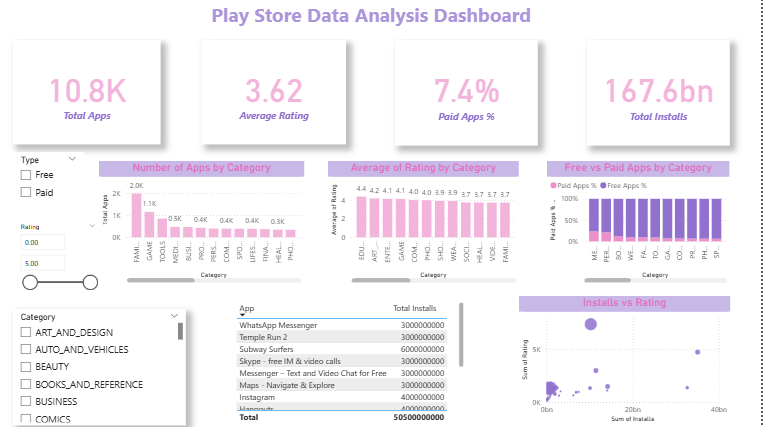

The dashboard page shown, as its layout file describes it:
{"tool":"powerbi","page":{"name":"Page 1","canvas":[1280,720],"ordinal":0},"visuals":[{"type":"card","fields":{"Values":["Play Store Data.Total Apps"]},"box":[34,70,246,174],"z":0},{"type":"card","fields":{"Values":["Play Store Data.Paid Apps %","select"]},"box":[670,70,238,176],"z":1000},{"type":"card","fields":{"Values":["Play Store Data.Total Installs"]},"box":[990,70,238,176],"z":2000},{"type":"card","fields":{"Values":["Play Store Data.Average Rating"]},"box":[348,70,240,174],"z":3000},{"type":"columnChart","title":"Number of Apps by Category","fields":{"Category":["Play Store Data.Category"],"Y":["Play Store Data.Total Apps"]},"box":[176,272,342,208],"z":4000},{"type":"columnChart","fields":{"Category":["Play Store Data.Category"],"Y":["Avg(Play Store Data.Rating)"]},"box":[558,272,318,208],"z":5000},{"type":"hundredPercentStackedColumnChart","title":"Free vs Paid Apps  by Category","fields":{"Y":["Play Store Data.Paid Apps %","Play Store Data.Free Apps %"],"Category":["Play Store Data.Category"]},"box":[924,272,304,208],"z":6000},{"type":"scatterChart","title":"Installs vs Rating","fields":{"X":["Sum(Play Store Data.Installs)"],"Y":["Sum(Play Store Data.Rating)"],"Size":["Sum(Play Store Data.Price)"],"Category":["Play Store Data.Category"]},"box":[876,496,352,216],"z":7000},{"type":"tableEx","fields":{"Values":["Play Store Data.App","Play Store Data.Total Installs"]},"box":[400,502,390,210],"z":8000},{"type":"slicer","fields":{"Values":["Play Store Data.Type"]},"box":[34,256,118,104],"z":9000},{"type":"slicer","fields":{"Values":["Play Store Data.Rating"]},"box":[34,370,150,132],"z":10000},{"type":"slicer","fields":{"Values":["Play Store Data.Category"]},"box":[34,518,288,194],"z":11000},{"type":"textbox","box":[34,0,1194,68],"z":12000}]}

Visuals, with their boxes in screenshot pixels (x1, y1, x2, y2), scaled from the page's 1280x720 canvas onto the 763x427 screenshot:
card - Play Store Data.Total Apps: x1=20 y1=42 x2=167 y2=145
card - Play Store Data.Paid Apps % x select: x1=399 y1=42 x2=541 y2=146
card - Play Store Data.Total Installs: x1=590 y1=42 x2=732 y2=146
card - Play Store Data.Average Rating: x1=207 y1=42 x2=351 y2=145
"Number of Apps by Category" columnChart: x1=105 y1=161 x2=309 y2=285
columnChart - Play Store Data.Category x Avg(Play Store Data.Rating): x1=333 y1=161 x2=522 y2=285
"Free vs Paid Apps  by Category" hundredPercentStackedColumnChart: x1=551 y1=161 x2=732 y2=285
"Installs vs Rating" scatterChart: x1=522 y1=294 x2=732 y2=422
tableEx - Play Store Data.App x Play Store Data.Total Installs: x1=238 y1=298 x2=471 y2=422
slicer - Play Store Data.Type: x1=20 y1=152 x2=91 y2=214
slicer - Play Store Data.Rating: x1=20 y1=219 x2=110 y2=298
slicer - Play Store Data.Category: x1=20 y1=307 x2=192 y2=422
textbox: x1=20 y1=0 x2=732 y2=40
